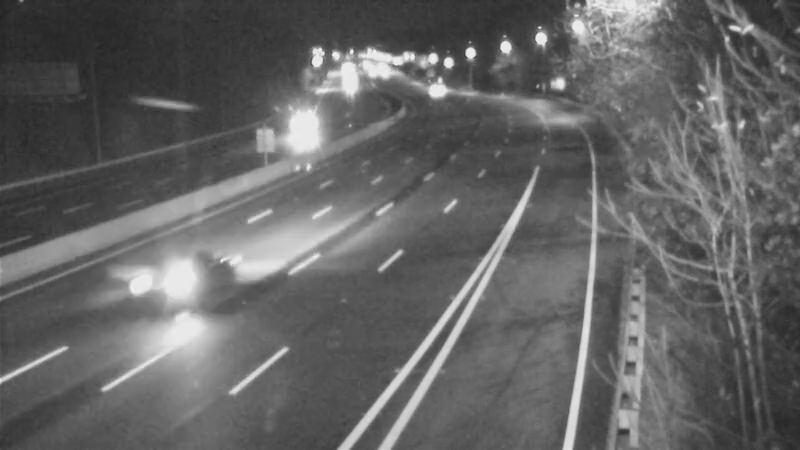vehicle: (136, 238, 216, 318), (410, 67, 460, 117), (281, 110, 331, 160)
